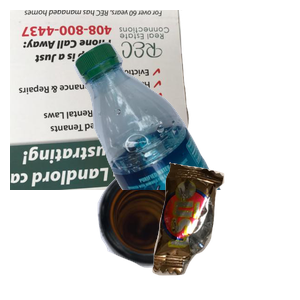glass: (95, 164, 286, 300)
paper: (10, 10, 201, 190)
plastic: (71, 39, 300, 219)
trash: (150, 160, 300, 300)
